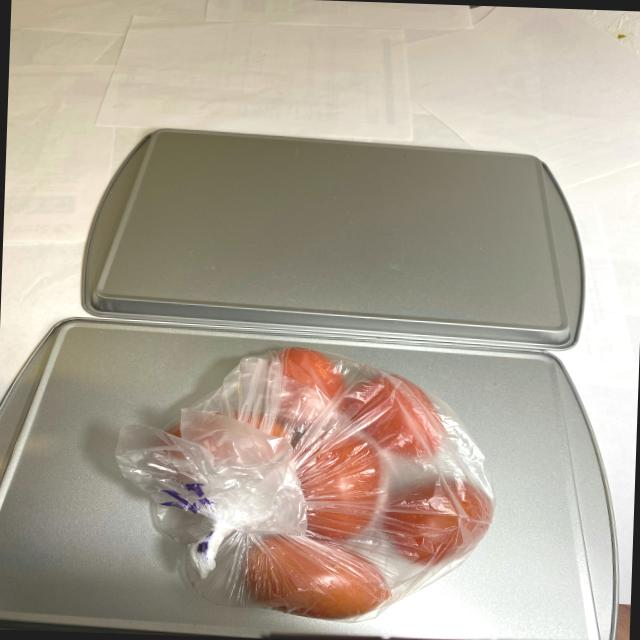tomato: (147, 338, 491, 618)
